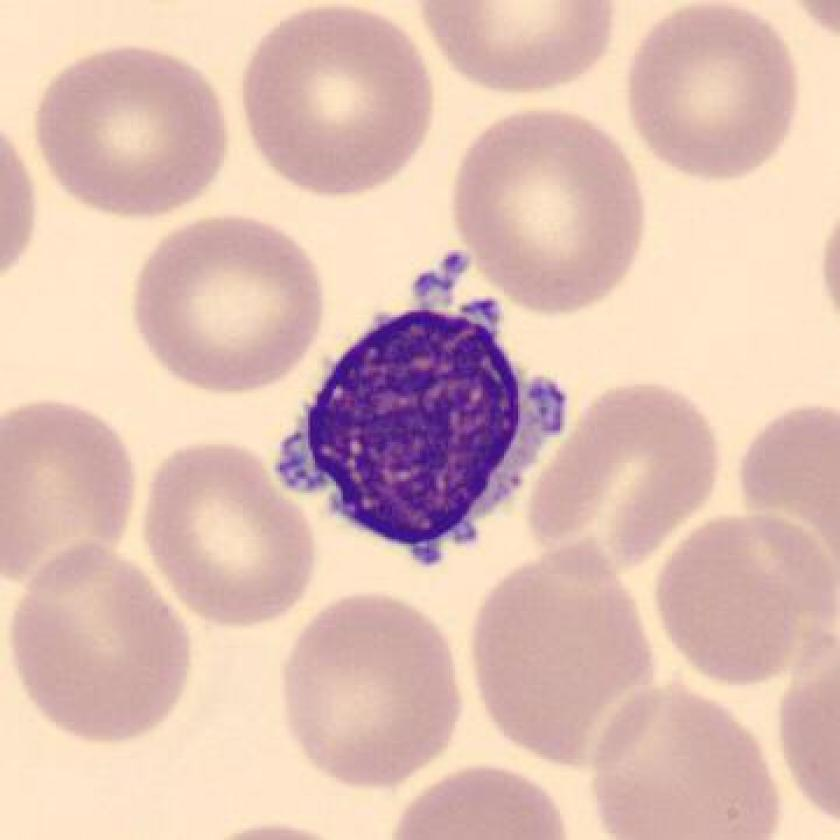lymphocyte: (258, 246, 584, 582)
